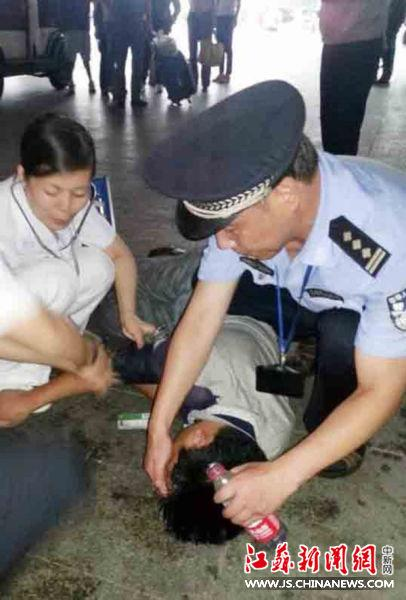fall: (108, 220, 301, 560)
